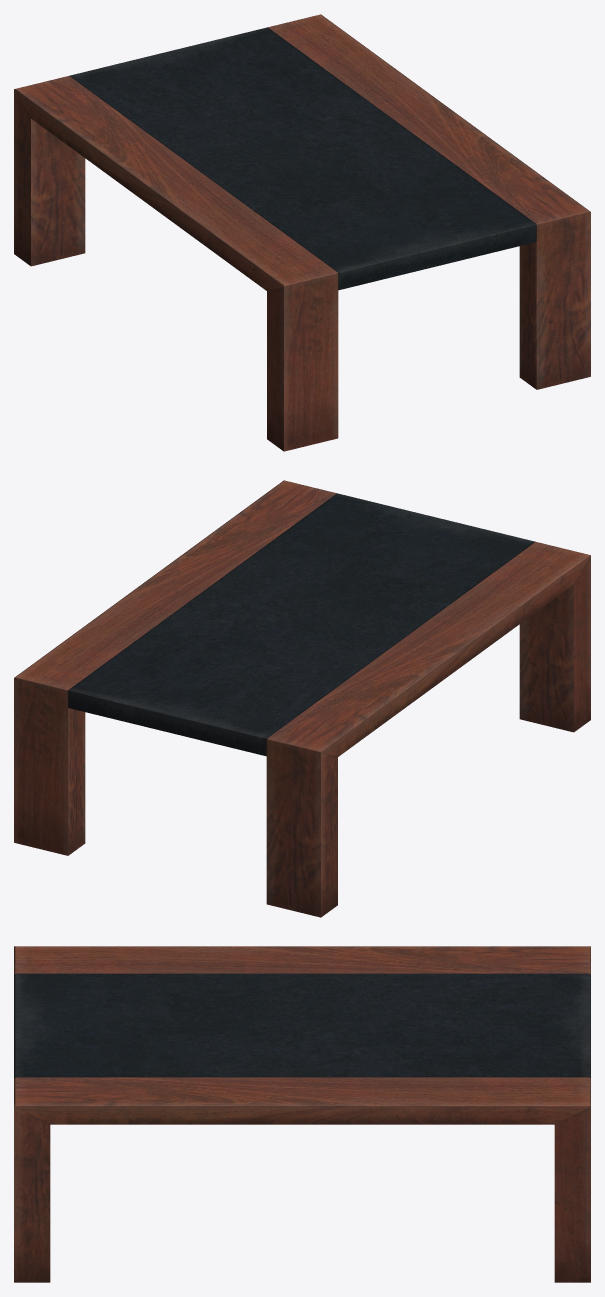
File: table_waitroom.dae
The picture shows the model from 3 angles, top to bottom: view 1: azimuth 30°, elevation 25°; view 2: azimuth 150°, elevation 25°; view 3: azimuth 270°, elevation 25°; orthographic projection. The views are drawn at different scales.
Parts seen in each view (by area): view 1: pCube1; view 2: pCube1; view 3: pCube1.
Part boxes in pixels (x1,y1,x2,y2): pCube1: (14, 14, 590, 451); pCube1: (14, 480, 590, 917); pCube1: (14, 946, 590, 1282).
Bounding box in the file's own units: 134 × 69.29 × 205.
